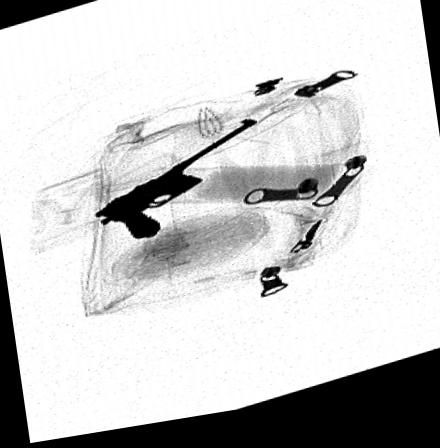Gun: (88, 123, 258, 244)
